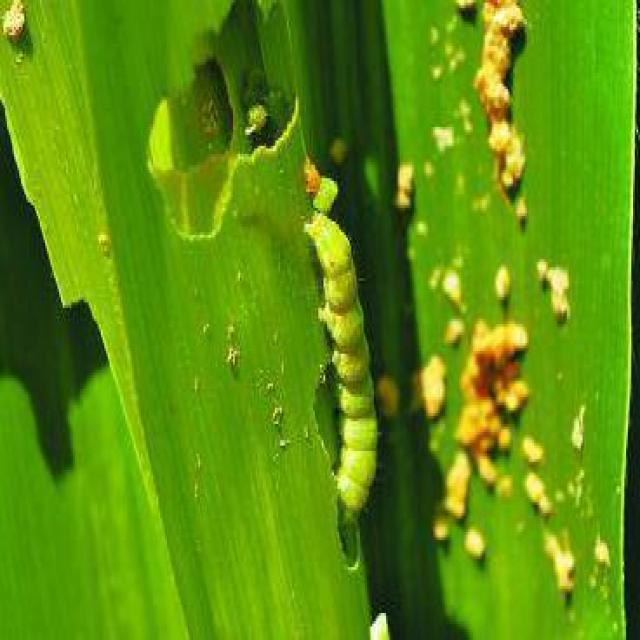armyworm: (299, 205, 386, 533)
